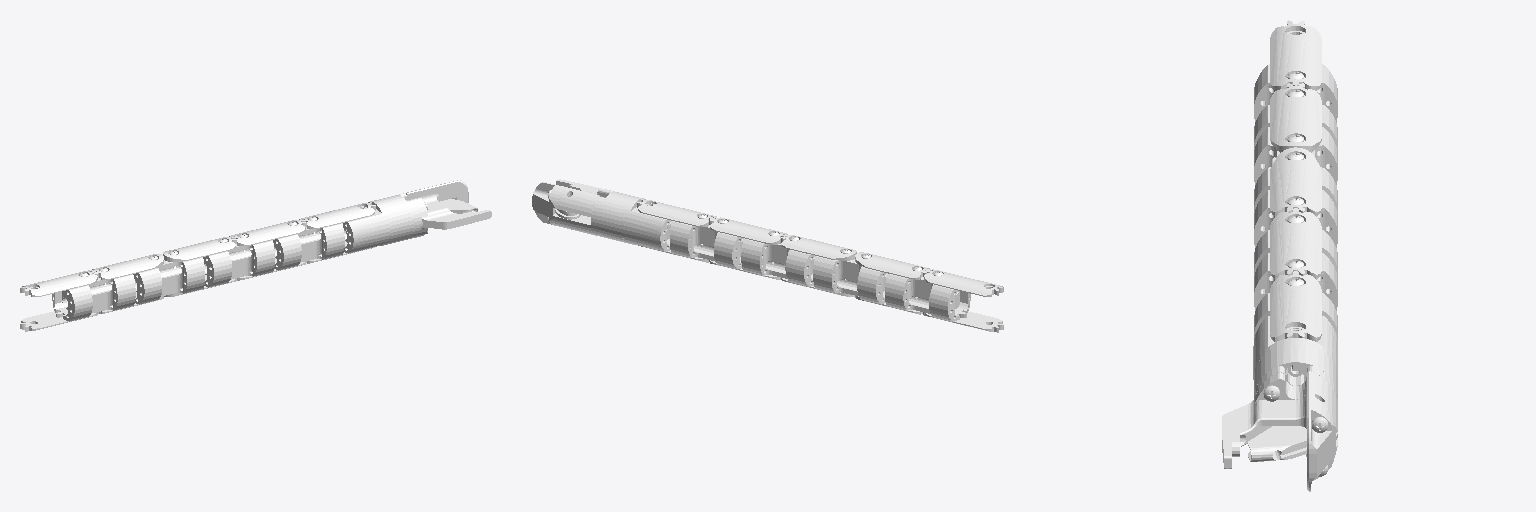
The robot description file, URDF, robot "CSI-200_BoneCuttingToolFullAssy_V4_URDF":
<?xml version="1.0" encoding="utf-8"?>
<!-- This URDF was automatically created by SolidWorks to URDF Exporter! Originally created by [author] ([email redacted]) 
     Commit Version: 1.6.0-1-g15f4949  Build Version: 1.6.7594.29634
     For more information, please see http://wiki.ros.org/sw_urdf_exporter -->
<robot
  name="CSI-200_BoneCuttingToolFullAssy_V4_URDF">
  <link
    name="base_link">
    <inertial>
      <origin
        xyz="-0.195542761308929 -0.0543004566173789 -0.00311358705126816"
        rpy="0 0 0" />
      <mass
        value="2.82497847633582" />
      <inertia
        ixx="0.000691365018399165"
        ixy="-7.21989726832368E-06"
        ixz="-8.28623313768042E-06"
        iyy="0.00220366922516715"
        iyz="9.93940688552824E-06"
        izz="0.0021607307802539" />
    </inertial>
    <visual>
      <origin
        xyz="0 0 0"
        rpy="0 0 0" />
      <geometry>
        <mesh
          filename="package://CSI-200_BoneCuttingToolFullAssy_V4_URDF/meshes/base_link.STL" />
      </geometry>
      <material
        name="">
        <color
          rgba="1 1 1 1" />
      </material>
    </visual>
    <collision>
      <origin
        xyz="0 0 0"
        rpy="0 0 0" />
      <geometry>
        <mesh
          filename="package://CSI-200_BoneCuttingToolFullAssy_V4_URDF/meshes/base_link.STL" />
      </geometry>
    </collision>
  </link>
  <link
    name="link_1">
    <inertial>
      <origin
        xyz="0.0101457727235753 -1.38937210070189E-08 1.73744119369434E-08"
        rpy="0 0 0" />
      <mass
        value="0.000801545700671476" />
      <inertia
        ixx="4.87957028547107E-09"
        ixy="8.24174385783391E-15"
        ixz="5.49944055996202E-15"
        iyy="4.45101627891487E-08"
        iyz="-2.78849773361008E-15"
        izz="4.8971339648408E-08" />
    </inertial>
    <visual>
      <origin
        xyz="0 0 0"
        rpy="0 0 0" />
      <geometry>
        <mesh
          filename="package://CSI-200_BoneCuttingToolFullAssy_V4_URDF/meshes/link_1.STL" />
      </geometry>
      <material
        name="">
        <color
          rgba="1 1 1 1" />
      </material>
    </visual>
    <collision>
      <origin
        xyz="0 0 0"
        rpy="0 0 0" />
      <geometry>
        <mesh
          filename="package://CSI-200_BoneCuttingToolFullAssy_V4_URDF/meshes/link_1.STL" />
      </geometry>
    </collision>
  </link>
  <joint
    name="Joint_1"
    type="revolute">
    <origin
      xyz="0 0 0"
      rpy="0 0 0" />
    <parent
      link="base_link" />
    <child
      link="link_1" />
    <axis
      xyz="0 0 -1" />
    <limit
      lower="0"
      upper="0"
      effort="0"
      velocity="0" />
  </joint>
  <link
    name="link_2">
    <inertial>
      <origin
        xyz="-0.0041346 -4.838E-08 1.8992E-09"
        rpy="0 0 0" />
      <mass
        value="0.0033683" />
      <inertia
        ixx="8.7289E-08"
        ixy="-4.858E-14"
        ixz="-2.9376E-13"
        iyy="2.1214E-07"
        iyz="-3.2726E-09"
        izz="2.175E-07" />
    </inertial>
    <visual>
      <origin
        xyz="0 0 0"
        rpy="0 0 0" />
      <geometry>
        <mesh
          filename="package://CSI-200_BoneCuttingToolFullAssy_V4_URDF/meshes/link_2.STL" />
      </geometry>
      <material
        name="">
        <color
          rgba="1 1 1 1" />
      </material>
    </visual>
    <collision>
      <origin
        xyz="0 0 0"
        rpy="0 0 0" />
      <geometry>
        <mesh
          filename="package://CSI-200_BoneCuttingToolFullAssy_V4_URDF/meshes/link_2.STL" />
      </geometry>
    </collision>
  </link>
  <joint
    name="Joint_2"
    type="revolute">
    <origin
      xyz="0.028 0 0"
      rpy="0 0 0" />
    <parent
      link="link_1" />
    <child
      link="link_2" />
    <axis
      xyz="0 0 1" />
    <limit
      lower="0"
      upper="0"
      effort="0"
      velocity="0" />
  </joint>
  <link
    name="link_3">
    <inertial>
      <origin
        xyz="-0.0102371819343171 -6.95258367544582E-09 6.79990827257004E-08"
        rpy="0 0 0" />
      <mass
        value="0.000776703550787097" />
      <inertia
        ixx="4.54352451091879E-09"
        ixy="-8.73669351483935E-14"
        ixz="-1.17844997889738E-14"
        iyy="4.07691636249048E-08"
        iyz="2.11595273770962E-14"
        izz="4.49040530272986E-08" />
    </inertial>
    <visual>
      <origin
        xyz="0 0 0"
        rpy="0 0 0" />
      <geometry>
        <mesh
          filename="package://CSI-200_BoneCuttingToolFullAssy_V4_URDF/meshes/link_3.STL" />
      </geometry>
      <material
        name="">
        <color
          rgba="1 1 1 1" />
      </material>
    </visual>
    <collision>
      <origin
        xyz="0 0 0"
        rpy="0 0 0" />
      <geometry>
        <mesh
          filename="package://CSI-200_BoneCuttingToolFullAssy_V4_URDF/meshes/link_3.STL" />
      </geometry>
    </collision>
  </link>
  <joint
    name="Joint_3"
    type="revolute">
    <origin
      xyz="0.02 0 0"
      rpy="0 0 0" />
    <parent
      link="link_2" />
    <child
      link="link_3" />
    <axis
      xyz="0 0 1" />
    <limit
      lower="0"
      upper="0"
      effort="0"
      velocity="0" />
  </joint>
  <link
    name="link_4">
    <inertial>
      <origin
        xyz="-0.00413458669102168 -5.31176039264558E-08 1.89923374249723E-09"
        rpy="0 0 0" />
      <mass
        value="0.00336830557166159" />
      <inertia
        ixx="8.7289371529378E-08"
        ixy="-5.08154165546928E-14"
        ixz="-1.65928902421146E-13"
        iyy="2.12140667540327E-07"
        iyz="-3.27257912690215E-09"
        izz="2.1749531315581E-07" />
    </inertial>
    <visual>
      <origin
        xyz="0 0 0"
        rpy="0 0 0" />
      <geometry>
        <mesh
          filename="package://CSI-200_BoneCuttingToolFullAssy_V4_URDF/meshes/link_4.STL" />
      </geometry>
      <material
        name="">
        <color
          rgba="1 1 1 1" />
      </material>
    </visual>
    <collision>
      <origin
        xyz="0 0 0"
        rpy="0 0 0" />
      <geometry>
        <mesh
          filename="package://CSI-200_BoneCuttingToolFullAssy_V4_URDF/meshes/link_4.STL" />
      </geometry>
    </collision>
  </link>
  <joint
    name="Joint_4"
    type="revolute">
    <origin
      xyz="0.008 0 0"
      rpy="0 0 0" />
    <parent
      link="link_3" />
    <child
      link="link_4" />
    <axis
      xyz="0 0 1" />
    <limit
      lower="0"
      upper="0"
      effort="0"
      velocity="0" />
  </joint>
  <link
    name="link_5">
    <inertial>
      <origin
        xyz="-0.00976281806568305 6.95260793381891E-09 6.7999082947745E-08"
        rpy="0 0 0" />
      <mass
        value="0.000776703550787119" />
      <inertia
        ixx="4.54352451091898E-09"
        ixy="-8.73669258551938E-14"
        ixz="1.17844997507639E-14"
        iyy="4.07691636249061E-08"
        iyz="-2.11595273789002E-14"
        izz="4.49040530272999E-08" />
    </inertial>
    <visual>
      <origin
        xyz="0 0 0"
        rpy="0 0 0" />
      <geometry>
        <mesh
          filename="package://CSI-200_BoneCuttingToolFullAssy_V4_URDF/meshes/link_5.STL" />
      </geometry>
      <material
        name="">
        <color
          rgba="1 1 1 1" />
      </material>
    </visual>
    <collision>
      <origin
        xyz="0 0 0"
        rpy="0 0 0" />
      <geometry>
        <mesh
          filename="package://CSI-200_BoneCuttingToolFullAssy_V4_URDF/meshes/link_5.STL" />
      </geometry>
    </collision>
  </link>
  <joint
    name="Joint_5"
    type="revolute">
    <origin
      xyz="0.02 0 0"
      rpy="0 0 0" />
    <parent
      link="link_4" />
    <child
      link="link_5" />
    <axis
      xyz="0 0 1" />
    <limit
      lower="0"
      upper="0"
      effort="0"
      velocity="0" />
  </joint>
  <link
    name="link_6">
    <inertial>
      <origin
        xyz="-0.0041346 -5.4614E-08 1.8992E-09"
        rpy="0 0 0" />
      <mass
        value="0.0033683" />
      <inertia
        ixx="8.7289E-08"
        ixy="-6.1181E-14"
        ixz="-9.4893E-14"
        iyy="2.1214E-07"
        iyz="-3.2726E-09"
        izz="2.175E-07" />
    </inertial>
    <visual>
      <origin
        xyz="0 0 0"
        rpy="0 0 0" />
      <geometry>
        <mesh
          filename="package://CSI-200_BoneCuttingToolFullAssy_V4_URDF/meshes/link_6.STL" />
      </geometry>
      <material
        name="">
        <color
          rgba="1 1 1 1" />
      </material>
    </visual>
    <collision>
      <origin
        xyz="0 0 0"
        rpy="0 0 0" />
      <geometry>
        <mesh
          filename="package://CSI-200_BoneCuttingToolFullAssy_V4_URDF/meshes/link_6.STL" />
      </geometry>
    </collision>
  </link>
  <joint
    name="Joint_6"
    type="revolute">
    <origin
      xyz="0.008 0 0"
      rpy="0 0 0" />
    <parent
      link="link_5" />
    <child
      link="link_6" />
    <axis
      xyz="0 0 1" />
    <limit
      lower="0"
      upper="0"
      effort="0"
      velocity="0" />
  </joint>
  <link
    name="link_7">
    <inertial>
      <origin
        xyz="-0.0101457727235751 1.38937032434505E-08 1.737441177041E-08"
        rpy="0 0 0" />
      <mass
        value="0.000801545700671478" />
      <inertia
        ixx="4.87957028547109E-09"
        ixy="8.24176223841101E-15"
        ixz="-5.49944063782202E-15"
        iyy="4.45101627891479E-08"
        iyz="2.78849774344208E-15"
        izz="4.89713396484073E-08" />
    </inertial>
    <visual>
      <origin
        xyz="0 0 0"
        rpy="0 0 0" />
      <geometry>
        <mesh
          filename="package://CSI-200_BoneCuttingToolFullAssy_V4_URDF/meshes/link_7.STL" />
      </geometry>
      <material
        name="">
        <color
          rgba="1 1 1 1" />
      </material>
    </visual>
    <collision>
      <origin
        xyz="0 0 0"
        rpy="0 0 0" />
      <geometry>
        <mesh
          filename="package://CSI-200_BoneCuttingToolFullAssy_V4_URDF/meshes/link_7.STL" />
      </geometry>
    </collision>
  </link>
  <joint
    name="Joint_7"
    type="revolute">
    <origin
      xyz="0.02 0 0"
      rpy="0 0 0" />
    <parent
      link="link_6" />
    <child
      link="link_7" />
    <axis
      xyz="0 0 1" />
    <limit
      lower="0"
      upper="0"
      effort="0"
      velocity="0" />
  </joint>
  <link
    name="link_8">
    <inertial>
      <origin
        xyz="-0.00413459043224676 -5.42795224878212E-08 1.89923382576396E-09"
        rpy="0 0 0" />
      <mass
        value="0.00336830557166155" />
      <inertia
        ixx="8.72893847155127E-08"
        ixy="-5.77927943524461E-14"
        ixz="-1.14282567555678E-13"
        iyy="2.12140654354189E-07"
        iyz="-3.27258604345153E-09"
        izz="2.17495313155808E-07" />
    </inertial>
    <visual>
      <origin
        xyz="0 0 0"
        rpy="0 0 0" />
      <geometry>
        <mesh
          filename="package://CSI-200_BoneCuttingToolFullAssy_V4_URDF/meshes/link_8.STL" />
      </geometry>
      <material
        name="">
        <color
          rgba="1 1 1 1" />
      </material>
    </visual>
    <collision>
      <origin
        xyz="0 0 0"
        rpy="0 0 0" />
      <geometry>
        <mesh
          filename="package://CSI-200_BoneCuttingToolFullAssy_V4_URDF/meshes/link_8.STL" />
      </geometry>
    </collision>
  </link>
  <joint
    name="Joint_8"
    type="revolute">
    <origin
      xyz="0.008 0 0"
      rpy="0 0 0" />
    <parent
      link="link_7" />
    <child
      link="link_8" />
    <axis
      xyz="0 0 1" />
    <limit
      lower="0"
      upper="0"
      effort="0"
      velocity="0" />
  </joint>
  <link
    name="link_9">
    <inertial>
      <origin
        xyz="-0.0101457727235744 1.38935972171517E-08 1.73744119369434E-08"
        rpy="0 0 0" />
      <mass
        value="0.000801545700671512" />
      <inertia
        ixx="4.87957028547128E-09"
        ixy="8.24175386493798E-15"
        ixz="-5.49944063220866E-15"
        iyy="4.45101627891502E-08"
        iyz="2.78849776675144E-15"
        izz="4.89713396484096E-08" />
    </inertial>
    <visual>
      <origin
        xyz="0 0 0"
        rpy="0 0 0" />
      <geometry>
        <mesh
          filename="package://CSI-200_BoneCuttingToolFullAssy_V4_URDF/meshes/link_9.STL" />
      </geometry>
      <material
        name="">
        <color
          rgba="1 1 1 1" />
      </material>
    </visual>
    <collision>
      <origin
        xyz="0 0 0"
        rpy="0 0 0" />
      <geometry>
        <mesh
          filename="package://CSI-200_BoneCuttingToolFullAssy_V4_URDF/meshes/link_9.STL" />
      </geometry>
    </collision>
  </link>
  <joint
    name="Joint_9"
    type="revolute">
    <origin
      xyz="0.02 0 0"
      rpy="0 0 0" />
    <parent
      link="link_8" />
    <child
      link="link_9" />
    <axis
      xyz="0 0 1" />
    <limit
      lower="0"
      upper="0"
      effort="0"
      velocity="0" />
  </joint>
  <link
    name="jaw">
    <inertial>
      <origin
        xyz="-0.0162494788517108 0.00970487538356685 -5.29411001148894E-09"
        rpy="0 0 0" />
      <mass
        value="0.0203919851208377" />
      <inertia
        ixx="7.44462850114211E-07"
        ixy="1.14189498281302E-07"
        ixz="1.80284060821887E-12"
        iyy="5.57865257909692E-07"
        iyz="-2.2650481430213E-09"
        izz="9.15710154261717E-07" />
    </inertial>
    <visual>
      <origin
        xyz="0 0 0"
        rpy="0 0 0" />
      <geometry>
        <mesh
          filename="package://CSI-200_BoneCuttingToolFullAssy_V4_URDF/meshes/jaw.STL" />
      </geometry>
      <material
        name="">
        <color
          rgba="1 1 1 1" />
      </material>
    </visual>
    <collision>
      <origin
        xyz="0 0 0"
        rpy="0 0 0" />
      <geometry>
        <mesh
          filename="package://CSI-200_BoneCuttingToolFullAssy_V4_URDF/meshes/jaw.STL" />
      </geometry>
    </collision>
  </link>
  <joint
    name="jaw"
    type="fixed">
    <origin
      xyz="0.039 -0.0105 0"
      rpy="0 0 0" />
    <parent
      link="link_9" />
    <child
      link="jaw" />
    <axis
      xyz="0 0 0" />
  </joint>
</robot>

--- What the picture shows (computed from the rendered views, not written in the file) ---
Views: 3 orthographic renders of the robot side by side, from view 1: azimuth 30°, elevation 25°; view 2: azimuth 150°, elevation 25°; view 3: azimuth 270°, elevation 25°.
Model CSI-200_BoneCuttingToolFullAssy_V4_URDF with 11 links and 10 joints (9 revolute, 1 fixed), rooted at base_link, posed every joint at zero.
Visible links, largest first — view 1: jaw, link_2, link_4, link_6, link_8, link_1, link_7, link_9, link_5, link_3; view 2: jaw, link_2, link_4, link_8, link_6, link_1, link_9, link_7, link_5, link_3; view 3: jaw, link_9, link_1, link_7, link_3, link_5, link_4, link_6, link_2, link_8.
Boxes of the visible links, x1,y1,x2,y2 form: jaw: [343, 180, 491, 253]; link_2: [52, 268, 135, 321]; link_4: [133, 251, 204, 304]; link_6: [203, 234, 274, 287]; link_8: [273, 217, 344, 270]; link_1: [20, 270, 97, 331]; link_7: [229, 219, 306, 280]; link_9: [299, 202, 375, 263]; link_5: [163, 236, 236, 296]; link_3: [90, 254, 163, 313]; jaw: [532, 179, 671, 251]; link_2: [885, 267, 970, 321]; link_4: [813, 249, 886, 304]; link_8: [670, 214, 743, 269]; link_6: [741, 232, 814, 286]; link_1: [924, 269, 1003, 332]; link_9: [637, 199, 716, 262]; link_7: [709, 217, 787, 279]; link_5: [781, 234, 856, 296]; link_3: [855, 252, 931, 314]; jaw: [1222, 316, 1337, 491]; link_9: [1270, 271, 1321, 341]; link_1: [1270, 20, 1321, 90]; link_7: [1270, 208, 1321, 279]; link_3: [1270, 83, 1321, 152]; link_5: [1270, 147, 1321, 216]; link_4: [1254, 127, 1337, 213]; link_6: [1254, 190, 1337, 276]; link_2: [1254, 64, 1337, 157]; link_8: [1254, 253, 1337, 338].
Bounding box of the posed robot: 0.1806 × 0.022 × 0.0167 m (x, y, z).
10 mesh visuals loaded from 11 distinct referenced files (10 binary STL); not drawn: 1 (reference not matched to a file when rendering).